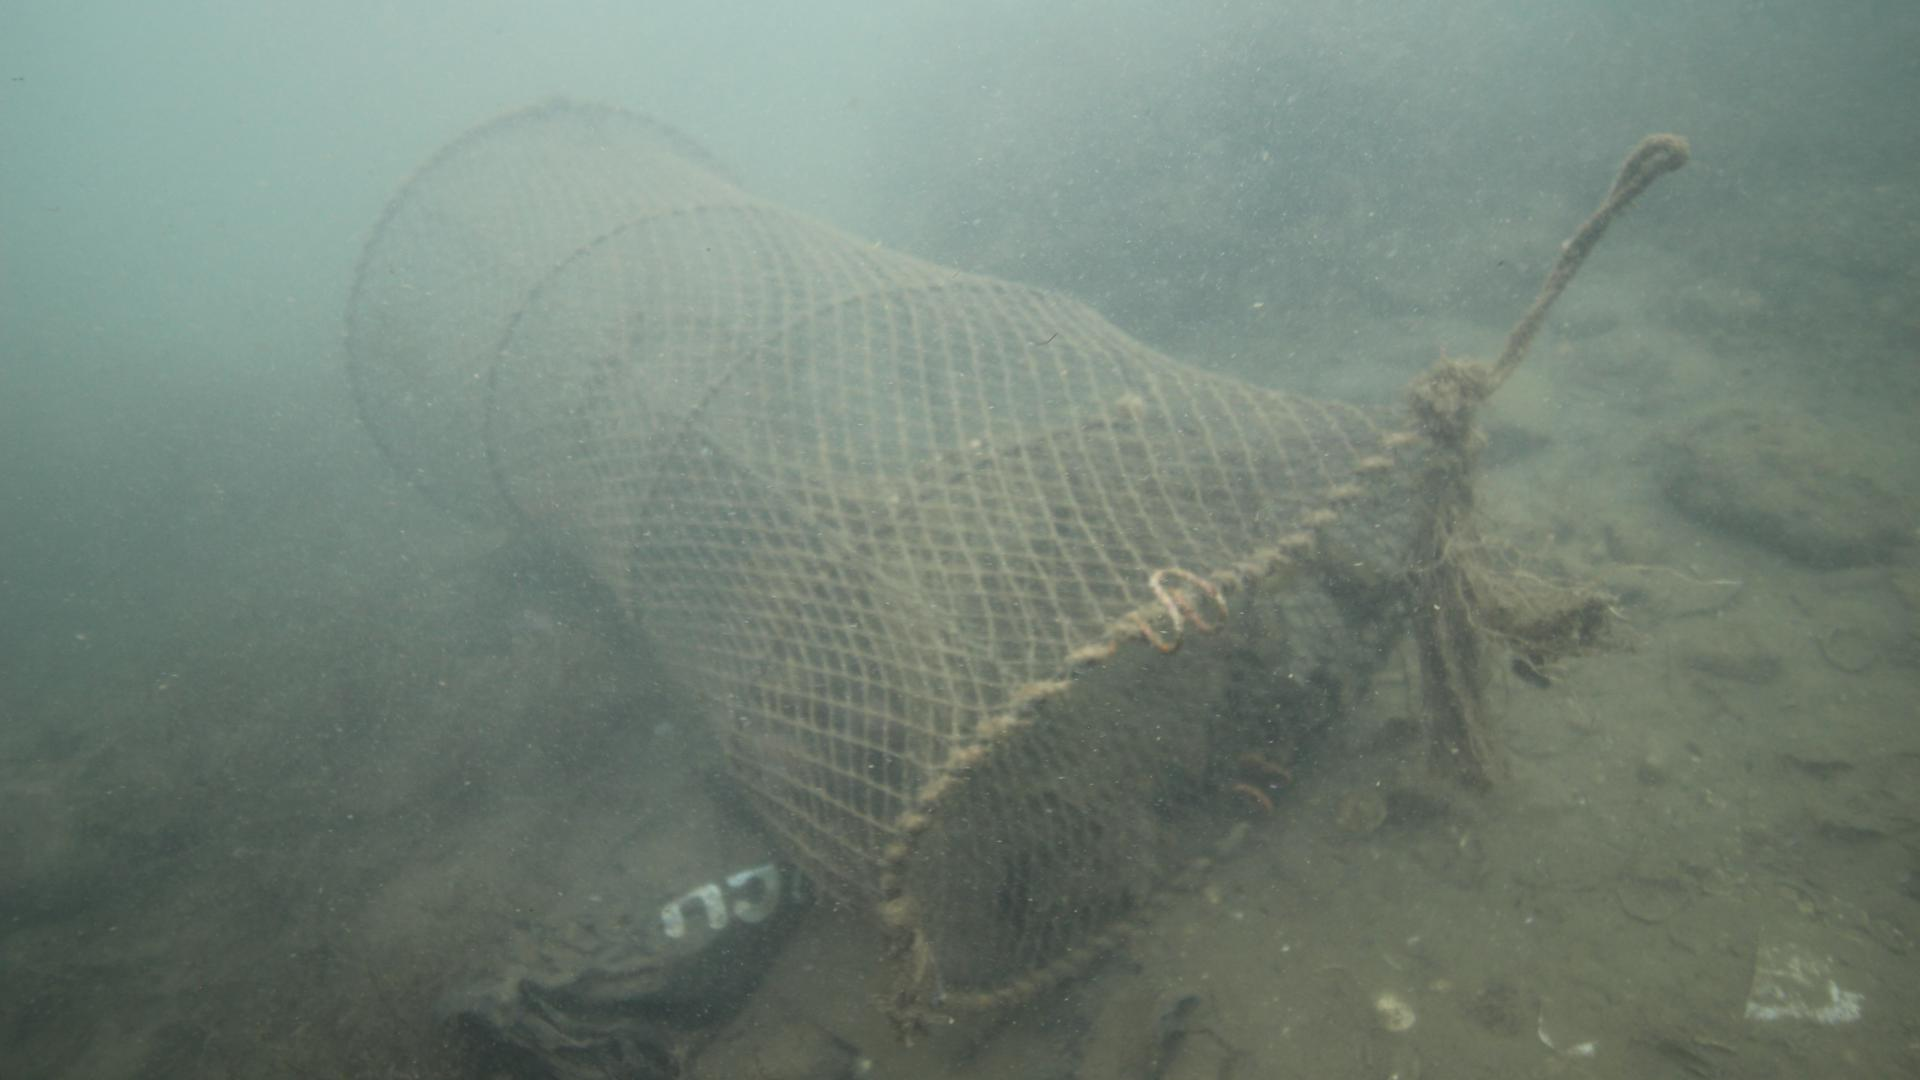bundle of ropes: (1469, 131, 1691, 400)
spring fish trap: (342, 94, 1478, 1015)
